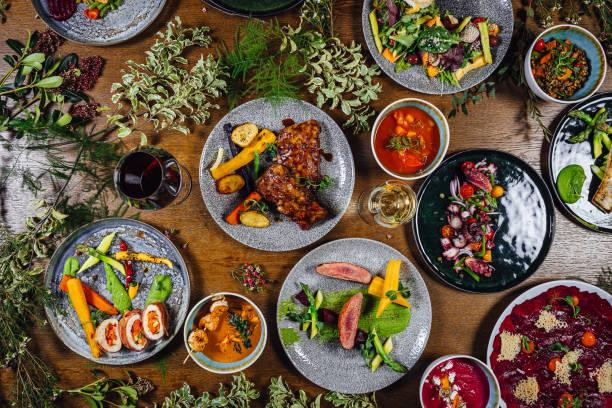Braised Crucian Carp: (198, 97, 356, 258), (274, 236, 432, 394), (42, 217, 190, 364), (411, 149, 555, 291), (480, 276, 612, 408), (363, 0, 514, 96)
